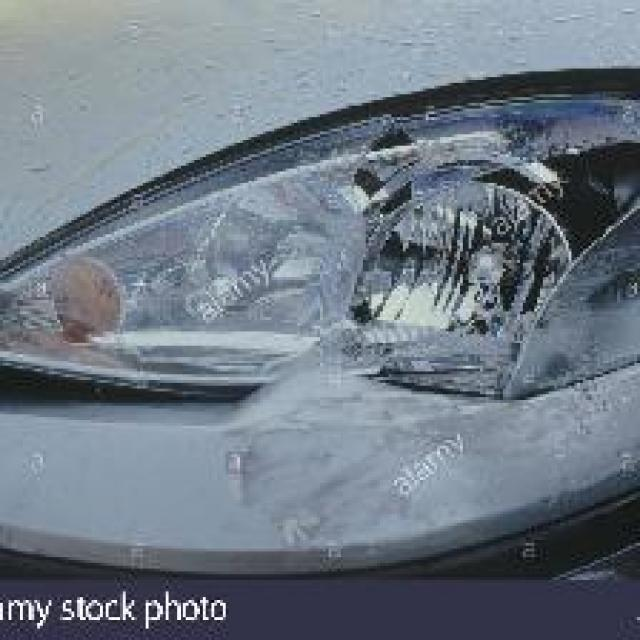damaged: (334, 120, 637, 400)
